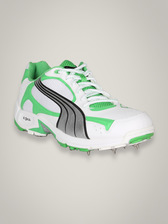shoes: (10, 57, 155, 154)
